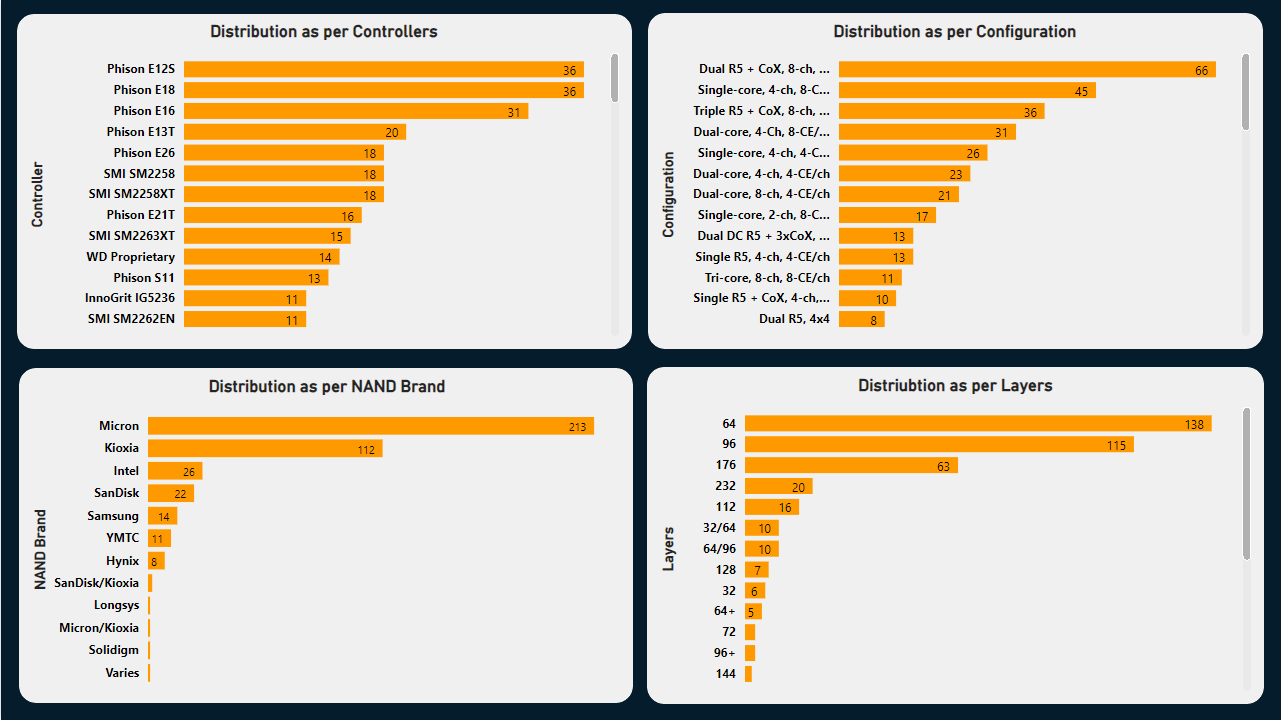

Layout of this report page (visuals, bound fields, positions):
{"tool":"powerbi","page":{"name":"P1","canvas":[1280,720],"ordinal":1},"visuals":[{"type":"shape","box":[646.7,13.3,615.6,335.6],"z":0},{"type":"shape","box":[17.8,367.8,614.4,335.6],"z":1000},{"type":"shape","box":[16.4,13.6,615,335],"z":2000},{"type":"clusteredBarChart","title":"Distribution as per Controllers","fields":{"Category":["ssddb ssd.Controller"],"Y":["CountNonNull(ssddb ssd.Brand)"]},"box":[23.3,21.1,600,320],"z":3000},{"type":"shape","box":[646.3,367.4,616.2,336.3],"z":4000},{"type":"clusteredBarChart","title":"Distribution as per Configuration","fields":{"Y":["CountNonNull(ssddb ssd.Brand)"],"Category":["ssddb ssd.Configuration"]},"box":[654.4,21.1,600,320],"z":5000},{"type":"clusteredBarChart","title":"Distribution as per NAND Brand","fields":{"Y":["CountNonNull(ssddb ssd.Brand)"],"Category":["ssddb ssd.NANDBrand"]},"box":[25.6,375.6,600,320],"z":6000},{"type":"clusteredBarChart","title":"Distriubtion as per Layers","fields":{"Y":["CountNonNull(ssddb ssd.Brand)"],"Category":["ssddb ssd.Layers"]},"box":[654.1,375.2,600.6,320.7],"z":7000}]}

Visuals, with their boxes in screenshot pixels (x1, y1, x2, y2), scaled from the page's 1280x720 canvas onto the 1281x720 screenshot:
shape: Rect(647, 13, 1263, 349)
shape: Rect(18, 368, 633, 703)
shape: Rect(16, 14, 632, 349)
"Distribution as per Controllers" clusteredBarChart: Rect(23, 21, 624, 341)
shape: Rect(647, 367, 1263, 704)
"Distribution as per Configuration" clusteredBarChart: Rect(655, 21, 1255, 341)
"Distribution as per NAND Brand" clusteredBarChart: Rect(26, 376, 626, 696)
"Distriubtion as per Layers" clusteredBarChart: Rect(655, 375, 1256, 696)
